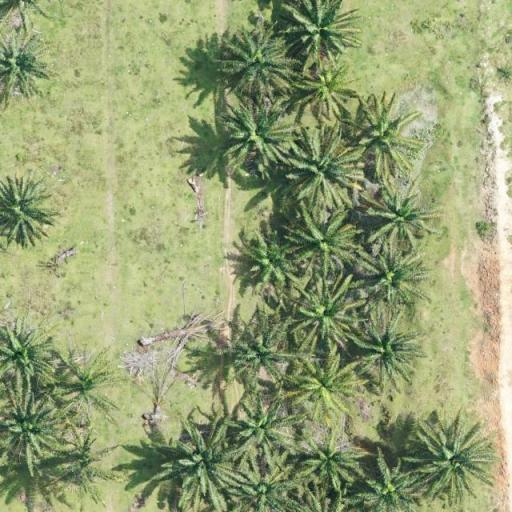Ganoderma: (302, 366, 348, 411), (304, 64, 346, 105), (362, 112, 401, 154), (70, 363, 104, 400)
